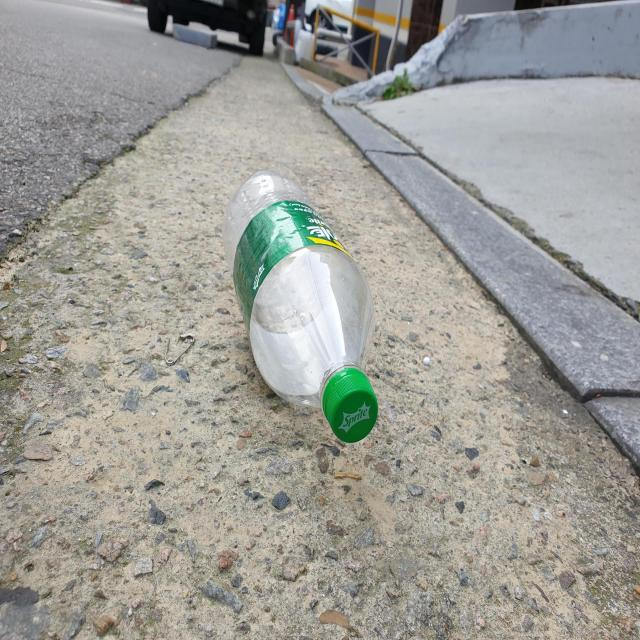plastic: (222, 169, 378, 443)
